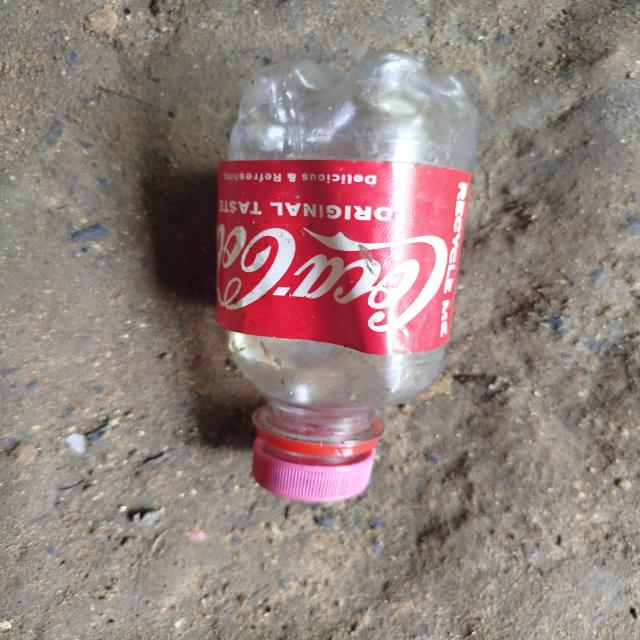plastic: (200, 43, 492, 514)
